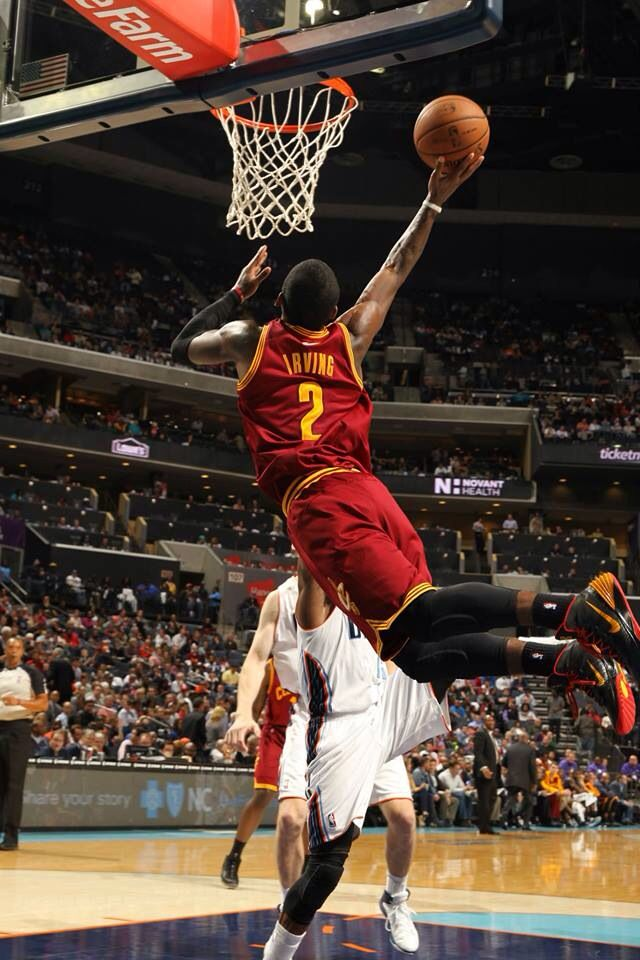Basketball: (411, 91, 491, 177)
